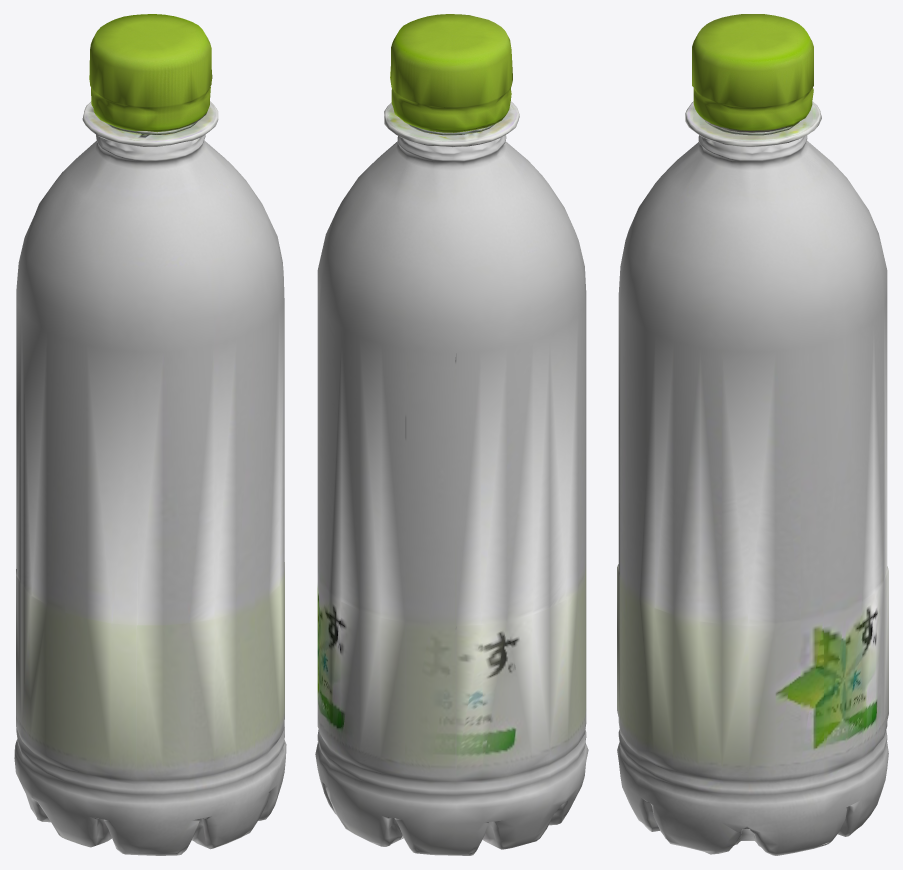
File: ilohas.glb
3 renders of one model, left to right at view 1: azimuth 30°, elevation 25°; view 2: azimuth 150°, elevation 25°; view 3: azimuth 270°, elevation 25°, orthographic.
Visible parts, largest first — view 1: tripo_node_b734b57c-cd64-4b99-a8d9-996625f41cd7; view 2: tripo_node_b734b57c-cd64-4b99-a8d9-996625f41cd7; view 3: tripo_node_b734b57c-cd64-4b99-a8d9-996625f41cd7.
Boxes of the visible parts, x1,y1,x2,y2 form: tripo_node_b734b57c-cd64-4b99-a8d9-996625f41cd7: (14, 14, 286, 855); tripo_node_b734b57c-cd64-4b99-a8d9-996625f41cd7: (315, 14, 588, 855); tripo_node_b734b57c-cd64-4b99-a8d9-996625f41cd7: (617, 14, 888, 855).
Bounding box in the file's own units: 0.3184 × 0.998 × 0.3184.
Materials: 1 (1 with a texture image).
